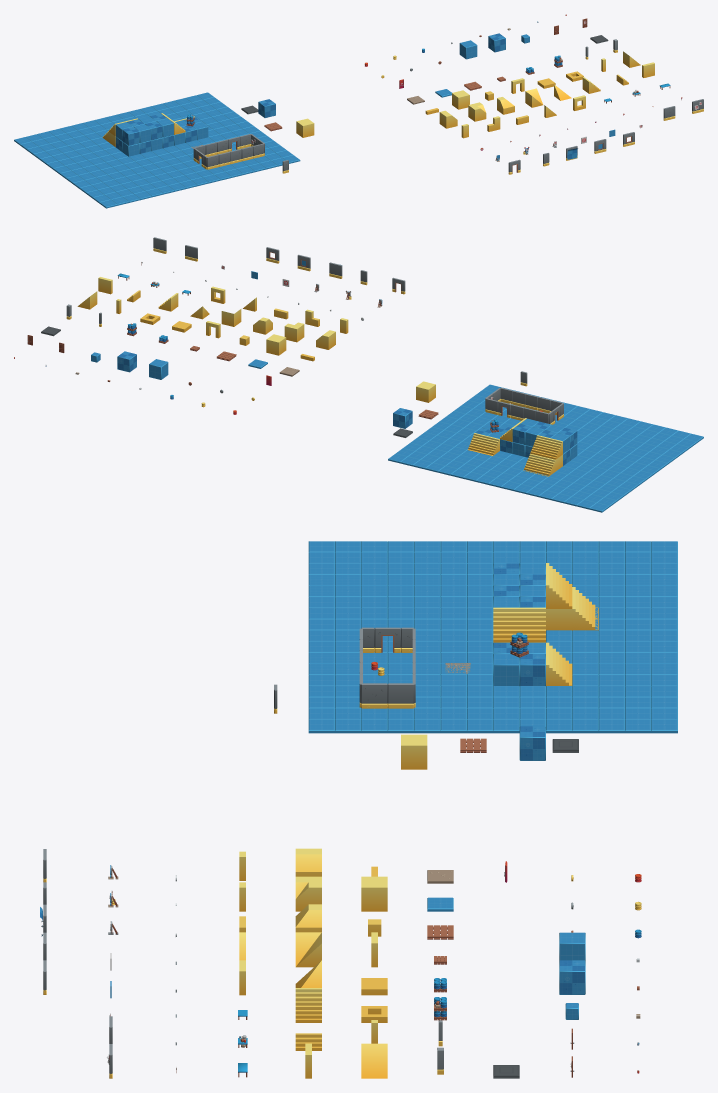
File: proto-level.glb
3 renders of one model, top to bottom at view 1: azimuth 30°, elevation 25°; view 2: azimuth 150°, elevation 25°; view 3: azimuth 270°, elevation 25°, orthographic. The views are drawn at different scales.
Visible parts, largest first — view 1: no part large enough to name; view 2: no part large enough to name; view 3: Primitive_Cube, Primitive_Slope, Primitive_Cube.001, Primitive_Stairs, Cube_Prototype_Large_B, Cube_Prototype_Large_B.001, Primitive_Slope_InnerCorner, Primitive_Stairs.002, Primitive_Stairs.003, Cube_Prototype_Large_A.003, Primitive_Slope_Half_InnerCorner, Cube_Prototype_Large_B.002.
Boxes of the visible parts, x1=… form: Primitive_Cube: x1=361, y1=876, x2=387, y2=911; Primitive_Slope: x1=361, y1=1043, x2=387, y2=1078; Primitive_Cube.001: x1=401, y1=734, x2=427, y2=769; Primitive_Stairs: x1=295, y1=988, x2=321, y2=1022; Cube_Prototype_Large_B: x1=559, y1=960, x2=585, y2=994; Cube_Prototype_Large_B.001: x1=519, y1=726, x2=545, y2=760; Primitive_Slope_InnerCorner: x1=295, y1=932, x2=321, y2=967; Primitive_Stairs.002: x1=493, y1=607, x2=519, y2=642; Primitive_Stairs.003: x1=519, y1=607, x2=545, y2=642; Cube_Prototype_Large_A.003: x1=493, y1=654, x2=519, y2=685; Primitive_Slope_Half_InnerCorner: x1=295, y1=876, x2=321, y2=911; Cube_Prototype_Large_B.002: x1=519, y1=654, x2=545, y2=685.
Size of the model in its own units: 192 by 9 by 96.74.
71 materials, 71 textured.
